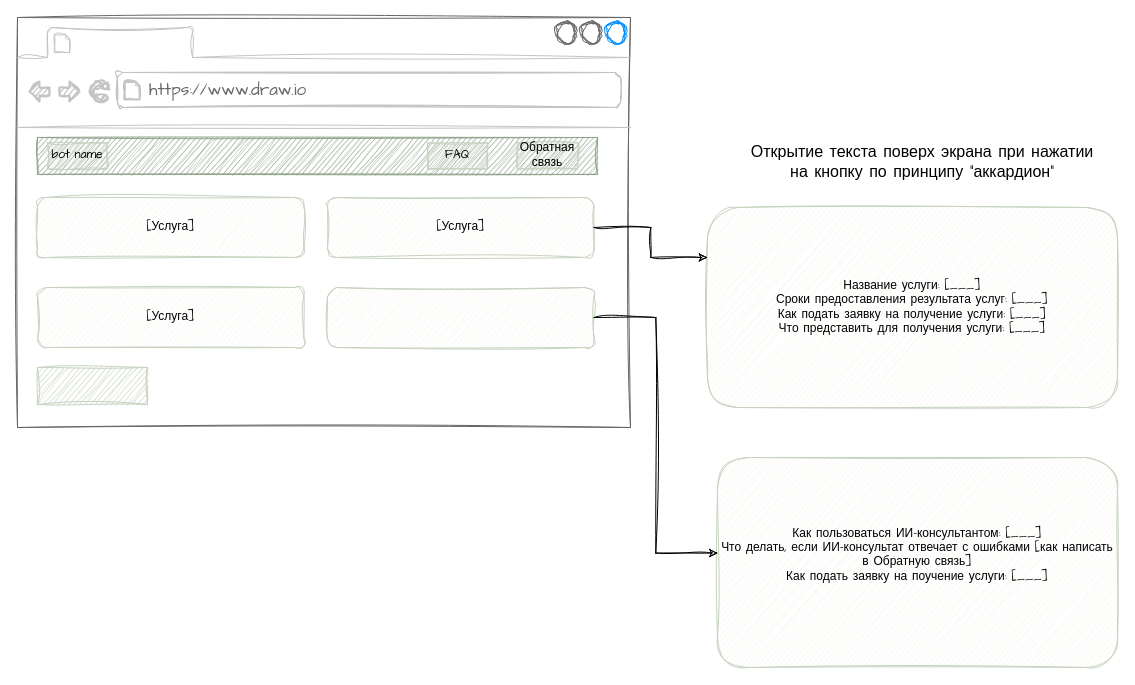
Image size: 1135x685. Some labels were removed from this diagram. The box of each missing label's shape, as (x1, y1, x2, y2) in pixels:
[Правила и констакты]: (326, 286, 594, 348)
Header: (36, 136, 598, 174)
Service ALL: (76, 28, 188, 56)
Вернуться на предыдущий экран: (36, 366, 148, 404)
